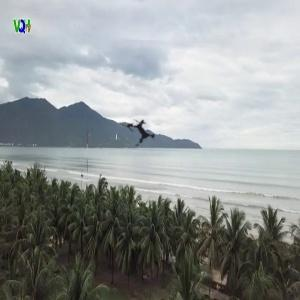drone: (109, 101, 173, 165)
